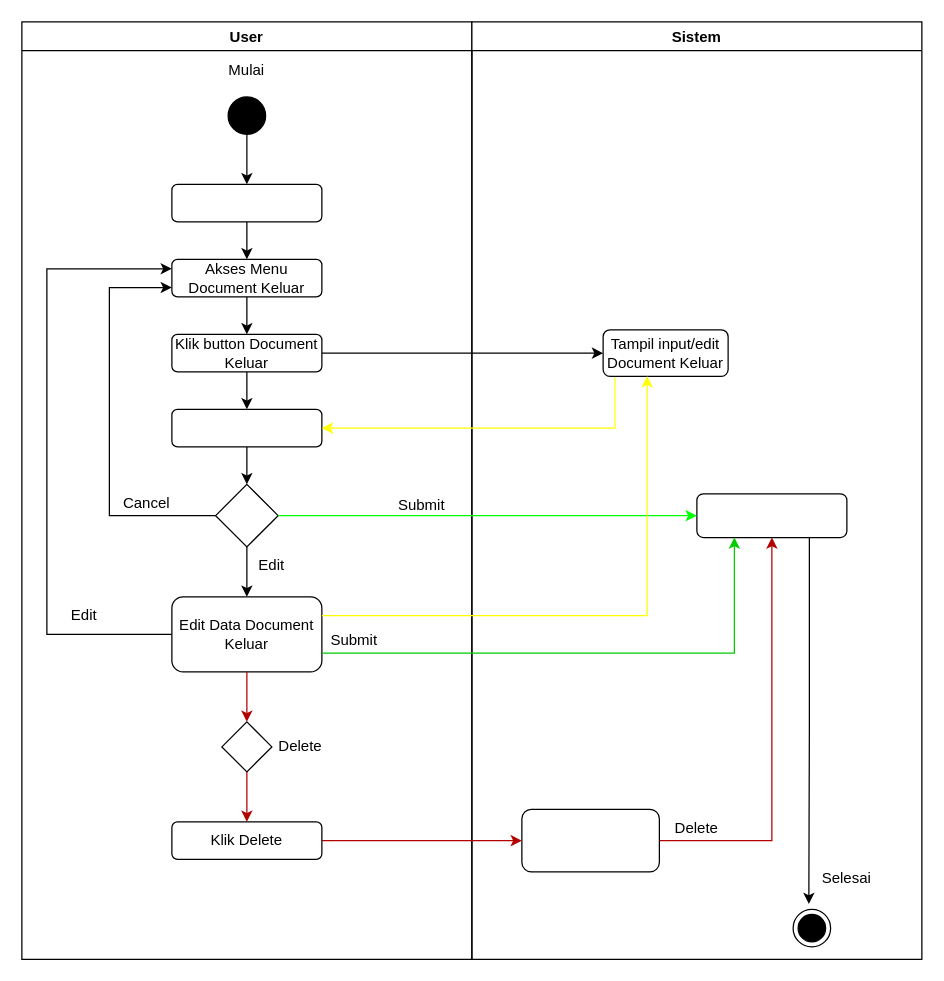
Some shapes in this 944 by 981 pixel diagram are drawn without their labels. The box of each missing label's shape, as (x1, y1, x2, y2) in pixels:
Data masuk dan terupdate didatabase: (696, 492, 847, 538)
Input data document keluar: (171, 408, 322, 447)
Tampil Dashboard User: (171, 183, 322, 222)
Tampil Notifikasi Delete Document Keluar: (521, 808, 659, 872)
